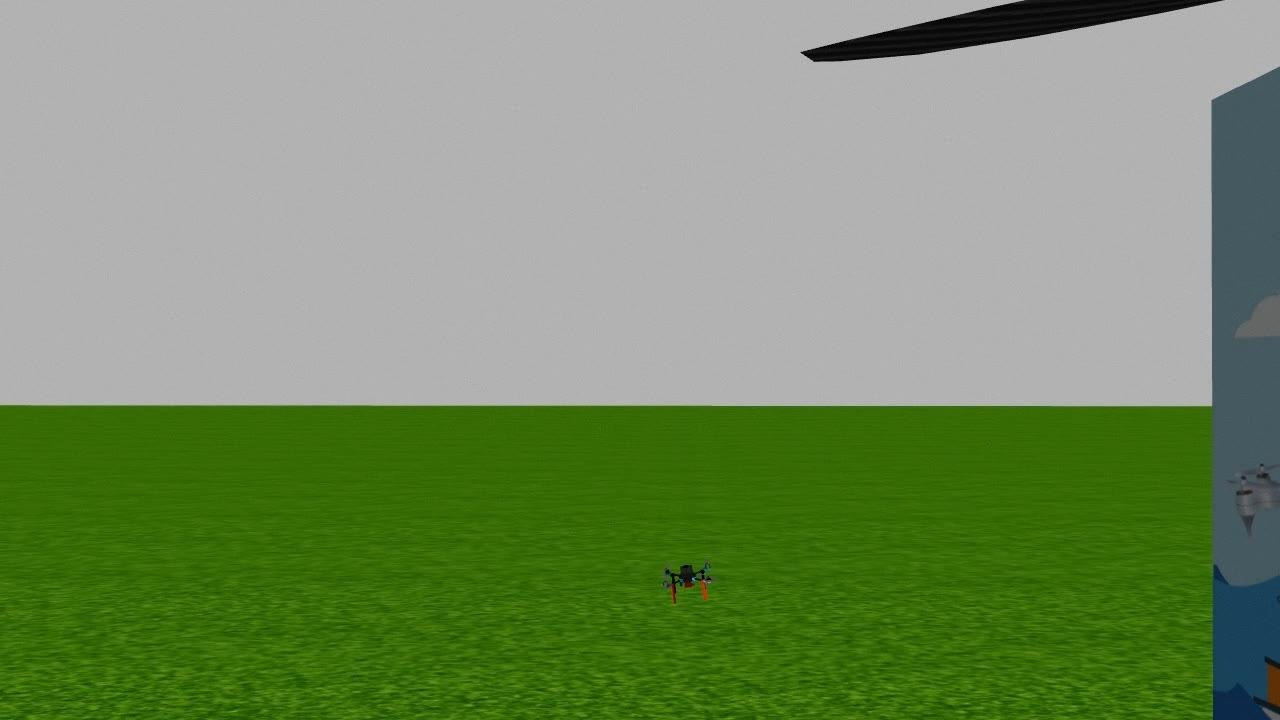UAV: (644, 550, 734, 610)
